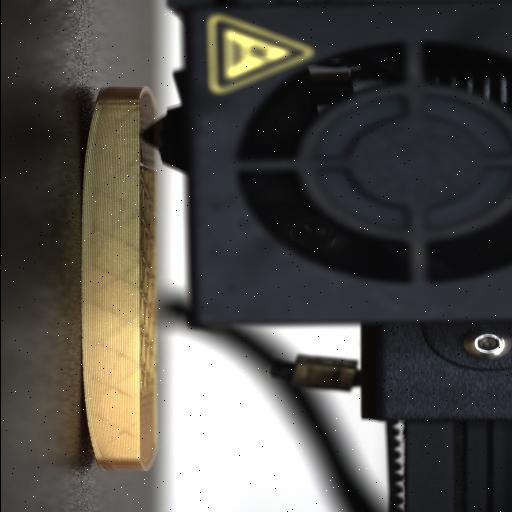warp: (74, 80, 116, 160), (82, 415, 110, 479)
